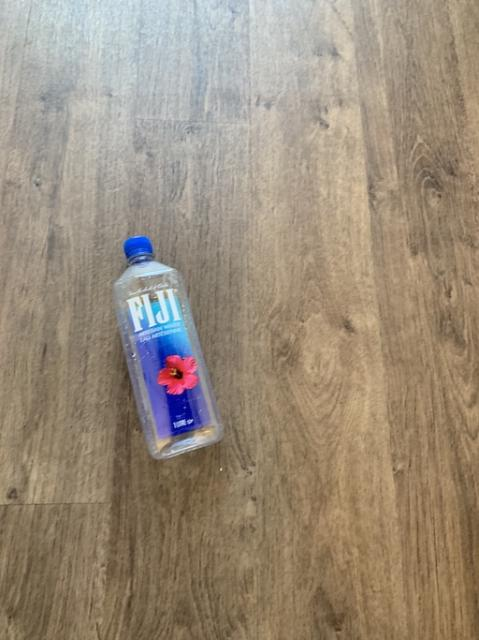plastic: (112, 235, 222, 457)
